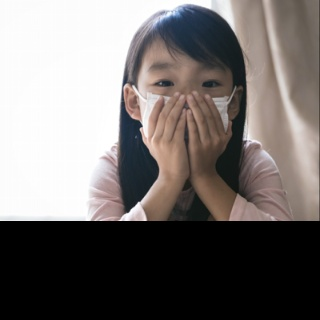with_mask: (134, 60, 233, 168)
